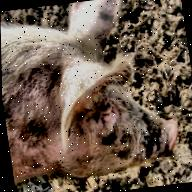boar: (0, 0, 185, 185)
